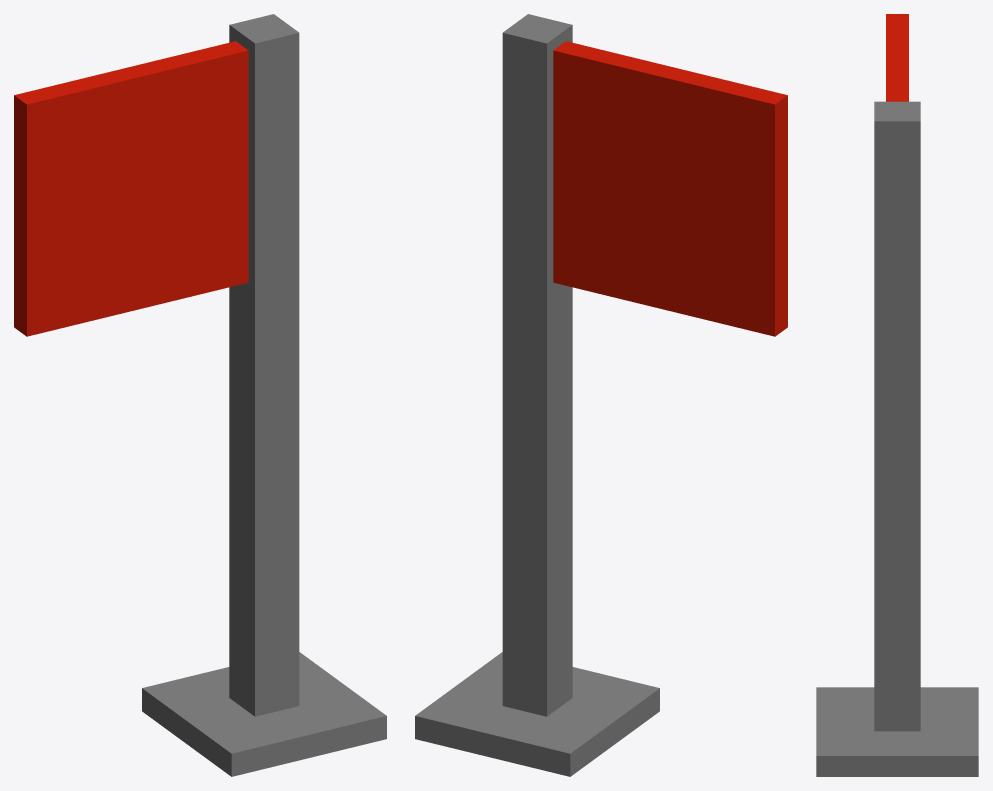
File: goal.obj
3 views of the same model, side by side, from view 1: azimuth 30°, elevation 25°; view 2: azimuth 150°, elevation 25°; view 3: azimuth 270°, elevation 25° (orthographic). The views are drawn at different scales.
Visible parts, largest first — view 1: 立方体.003; view 2: 立方体.003; view 3: 立方体.003.
Part boxes in pixels (bbox=[...]): 立方体.003: bbox=[14, 14, 386, 776]; 立方体.003: bbox=[415, 14, 787, 776]; 立方体.003: bbox=[816, 14, 978, 776].
Bounding box in the file's own units: 2.9 × 6 × 1.4.
